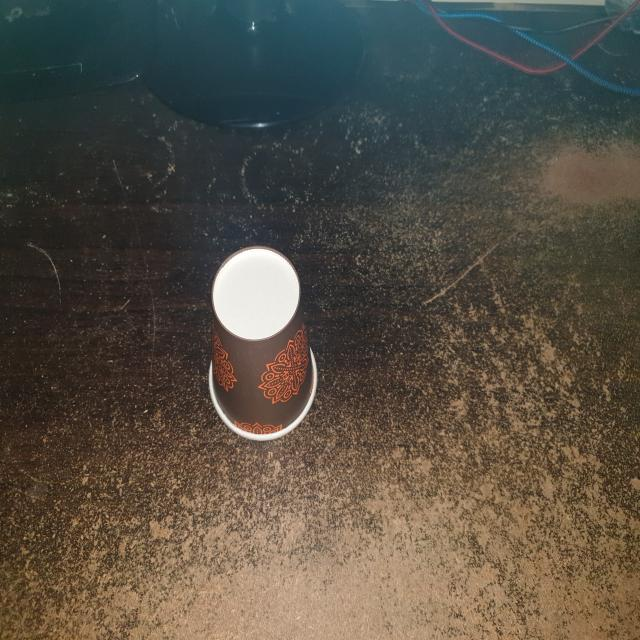cups: (203, 239, 325, 445)
